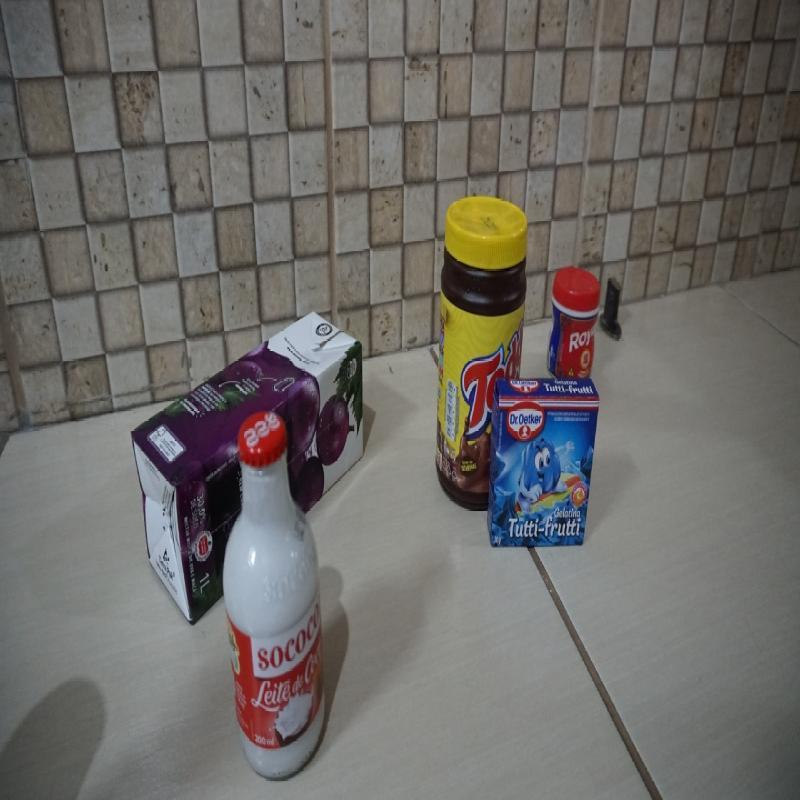Chocolate Powder: (435, 191, 526, 516)
Coconut Milk: (220, 410, 332, 784)
Gelatine: (486, 375, 602, 552)
Yeast: (544, 265, 603, 386)
